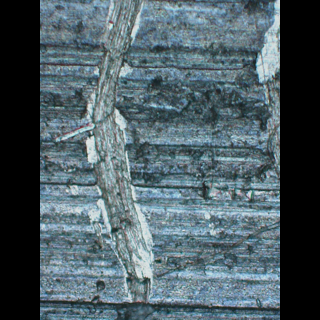d: (93, 105, 156, 320), (235, 0, 279, 186), (90, 1, 147, 121)
